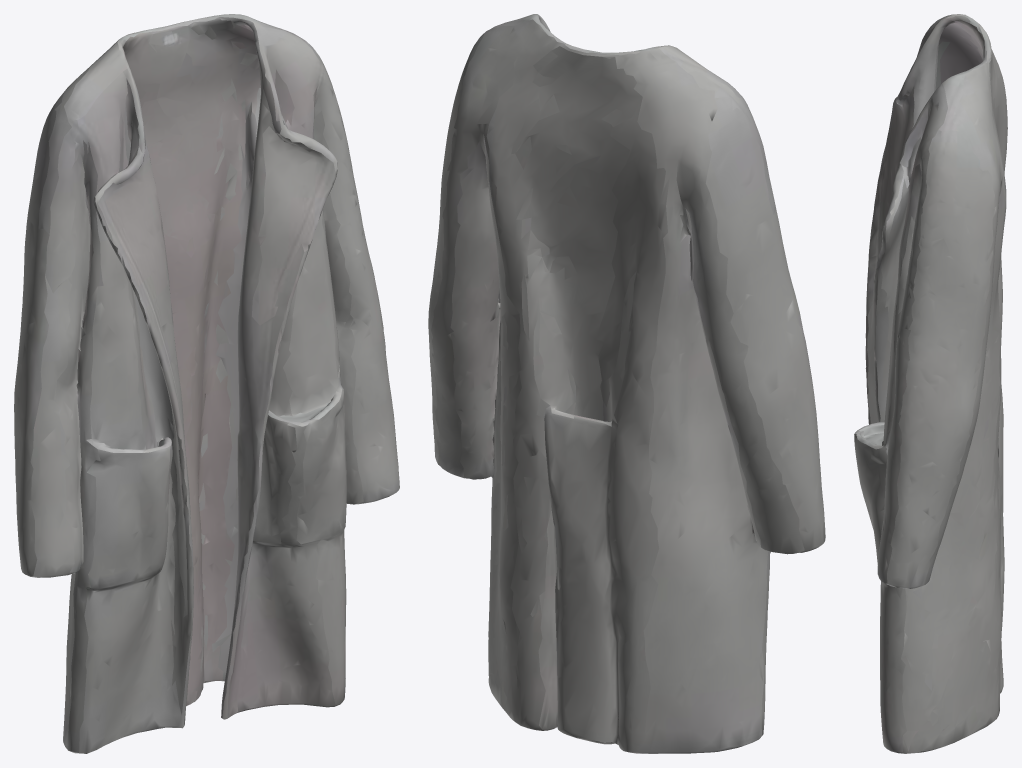
The model's file is casacos-resized.glb.
3 renders of one model, left to right at view 1: azimuth 30°, elevation 25°; view 2: azimuth 150°, elevation 25°; view 3: azimuth 270°, elevation 25°, orthographic. The views are drawn at different scales.
Visible parts, largest first — view 1: textured_mesh; view 2: textured_mesh; view 3: textured_mesh.
Part boxes in pixels (x1=…): textured_mesh: x1=14, y1=14, x2=399, y2=753; textured_mesh: x1=428, y1=14, x2=825, y2=753; textured_mesh: x1=854, y1=14, x2=1007, y2=753.
Bounding box in the file's own units: 1.14 × 1.99 × 0.4259.
Materials: 1 (1 with a texture image).
